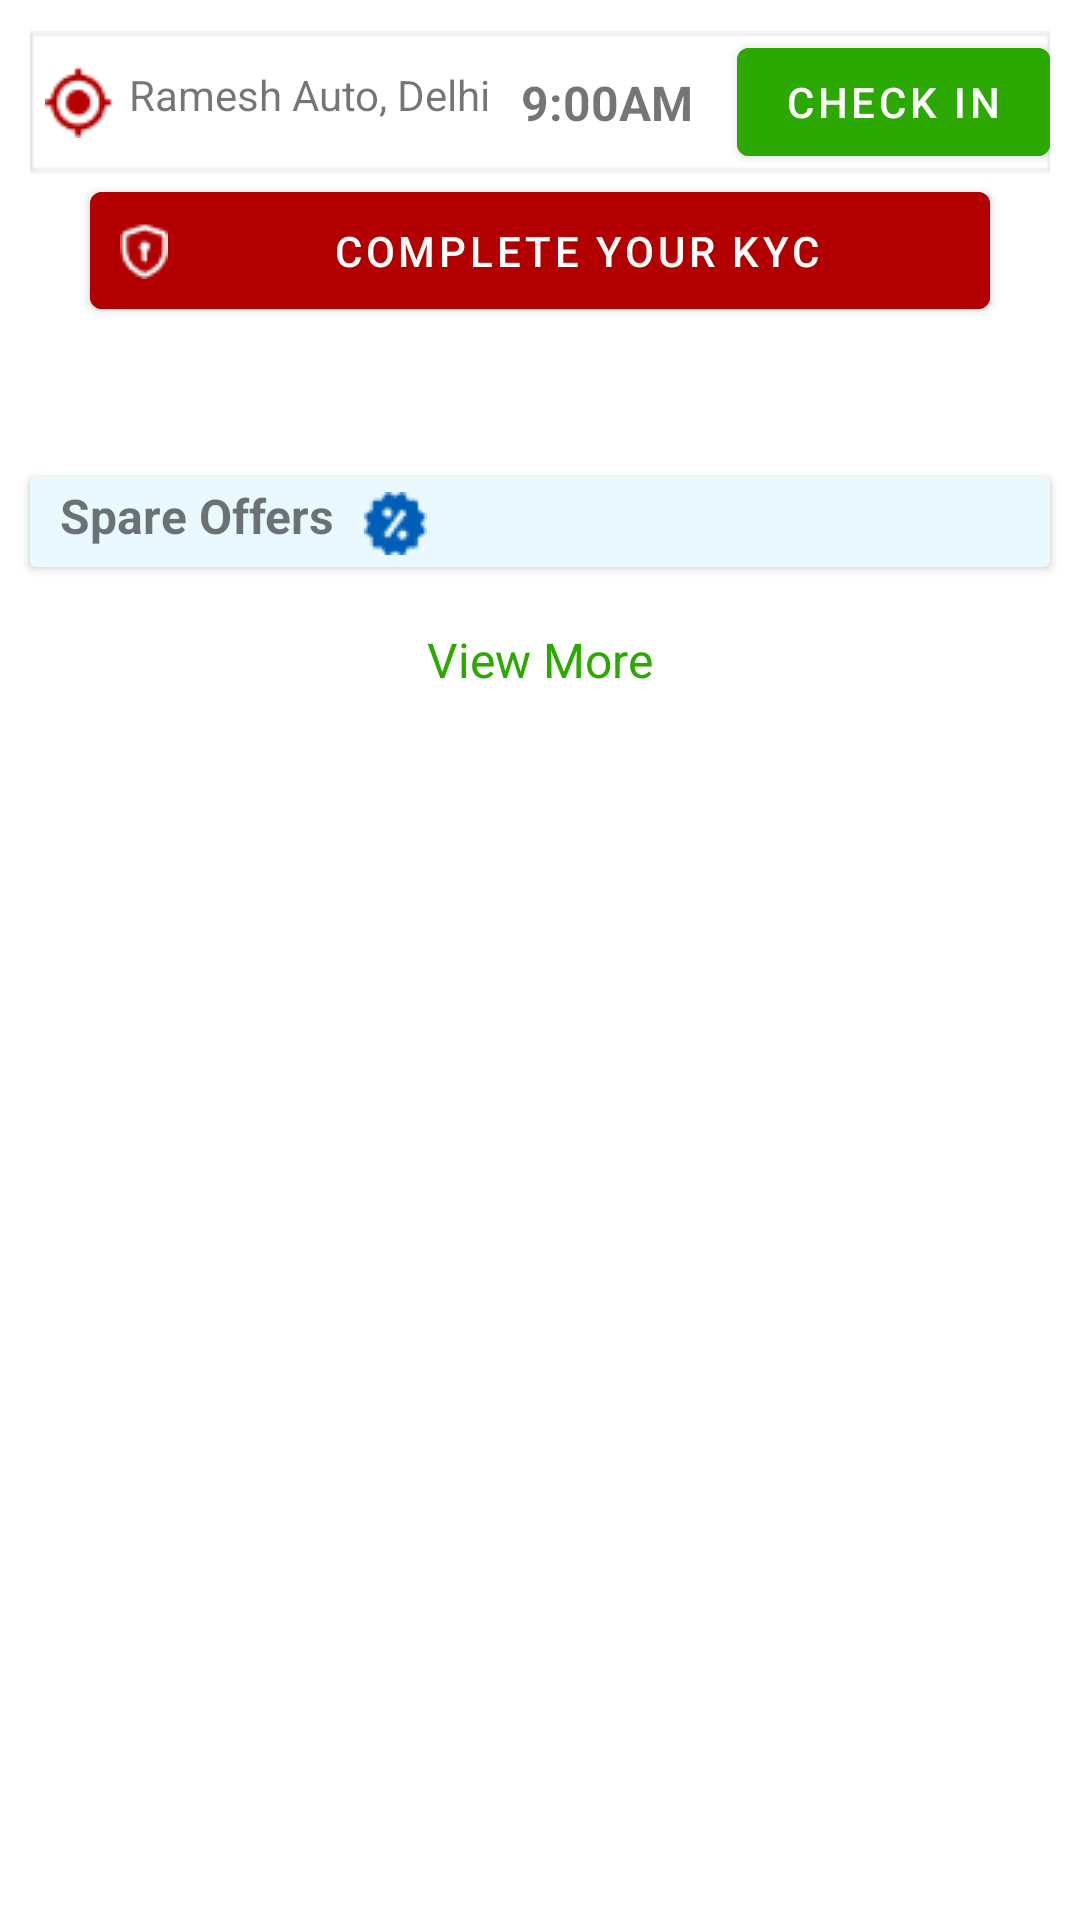

Named icons in this screenshot (1080px×1920px) and their bounding boxes, (x1, y1, x2, y2):
offericon: (364, 492, 427, 555)
